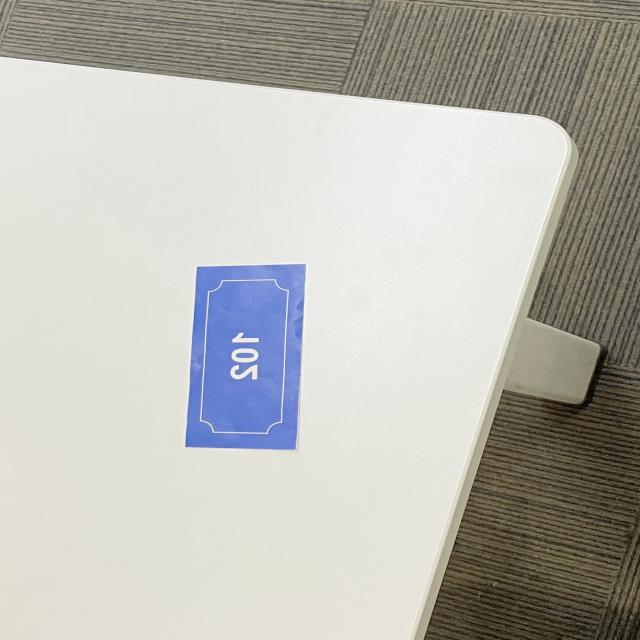Card: (165, 227, 326, 491)
